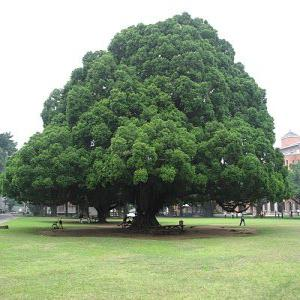Tree: (2, 8, 292, 230)
